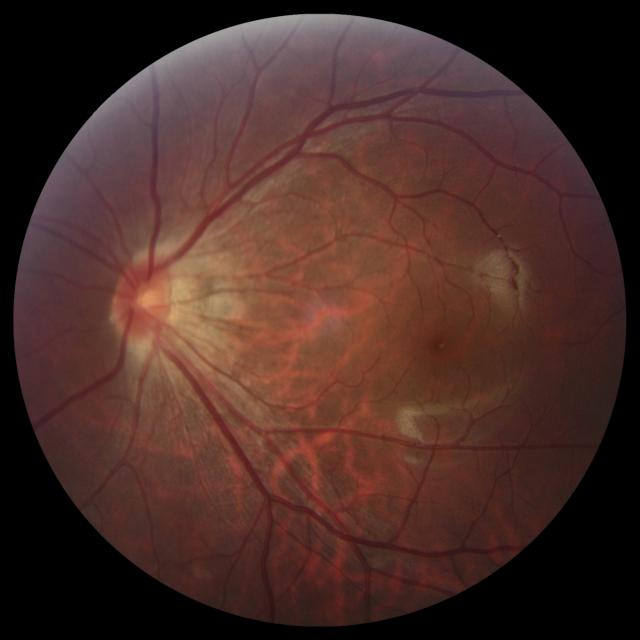OC: (132, 285, 158, 310)
OD: (114, 259, 175, 339)
